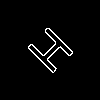H: (25, 25, 83, 83)
